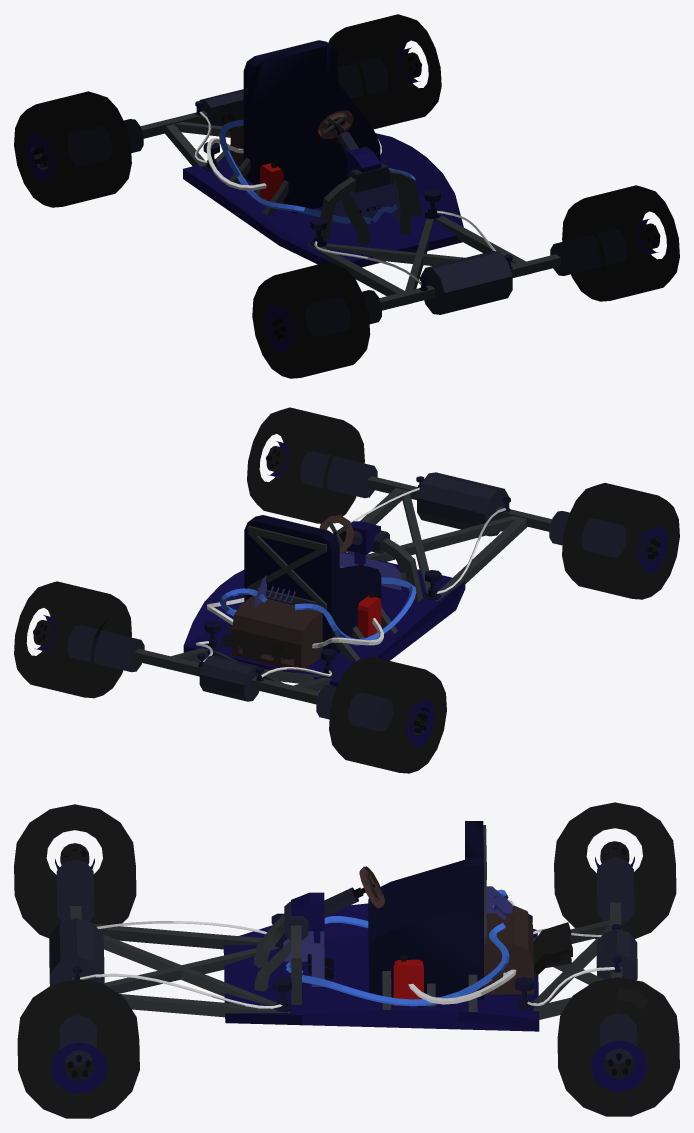
Rendered from Race_Blue.obj.
The picture shows the model from 3 angles, top to bottom: view 1: azimuth 30°, elevation 25°; view 2: azimuth 150°, elevation 25°; view 3: azimuth 270°, elevation 25°; orthographic projection. The views are drawn at different scales.
Visible parts, largest first — view 1: Body_Cube.001_Body_Cube.001, Cube.002_Cube.003_Cube.002_Cube.003, backWheel_Cube.002_backWheel_Cube.002; view 2: Body_Cube.001_Body_Cube.001, Cube.002_Cube.003_Cube.002_Cube.003, backWheel_Cube.002_backWheel_Cube.002; view 3: Body_Cube.001_Body_Cube.001, backWheel_Cube.002_backWheel_Cube.002, Cube.002_Cube.003_Cube.002_Cube.003.
Part boxes in pixels (left/top/right/bottom): Body_Cube.001_Body_Cube.001: left=30, top=40, right=679, bottom=378; Cube.002_Cube.003_Cube.002_Cube.003: left=14, top=91, right=143, bottom=207; backWheel_Cube.002_backWheel_Cube.002: left=328, top=14, right=441, bottom=129; Body_Cube.001_Body_Cube.001: left=33, top=407, right=679, bottom=735; Cube.002_Cube.003_Cube.002_Cube.003: left=316, top=656, right=446, bottom=773; backWheel_Cube.002_backWheel_Cube.002: left=14, top=581, right=140, bottom=698; Body_Cube.001_Body_Cube.001: left=14, top=804, right=649, bottom=1118; backWheel_Cube.002_backWheel_Cube.002: left=557, top=977, right=679, bottom=1116; Cube.002_Cube.003_Cube.002_Cube.003: left=554, top=802, right=676, bottom=938.
Size of the model in its own units: 6.82 by 2.53 by 8.69.
